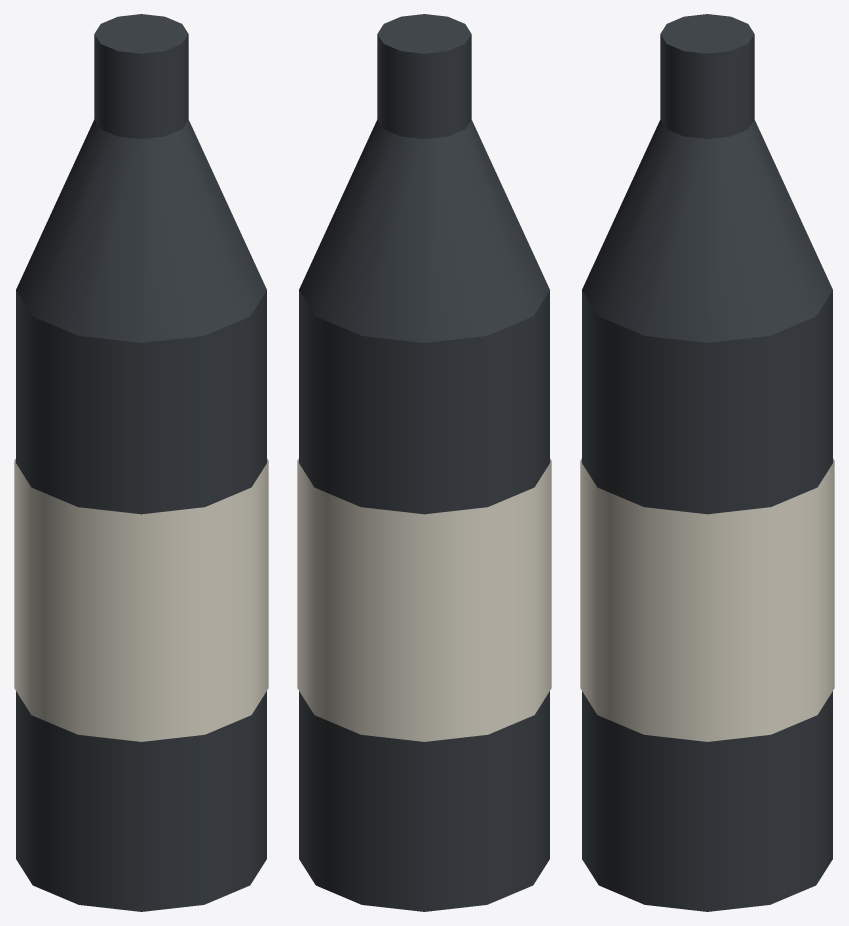
File: gin.glb
3 views of the same model, side by side, from view 1: azimuth 30°, elevation 25°; view 2: azimuth 150°, elevation 25°; view 3: azimuth 270°, elevation 25° (orthographic).
Parts seen in each view (by area): view 1: gin; view 2: gin; view 3: gin.
Part boxes in pixels (x1=…): gin: x1=14, y1=14, x2=268, y2=911; gin: x1=297, y1=14, x2=551, y2=911; gin: x1=580, y1=14, x2=834, y2=911.
Size of the model in its own units: 0.081 by 0.29 by 0.081.
